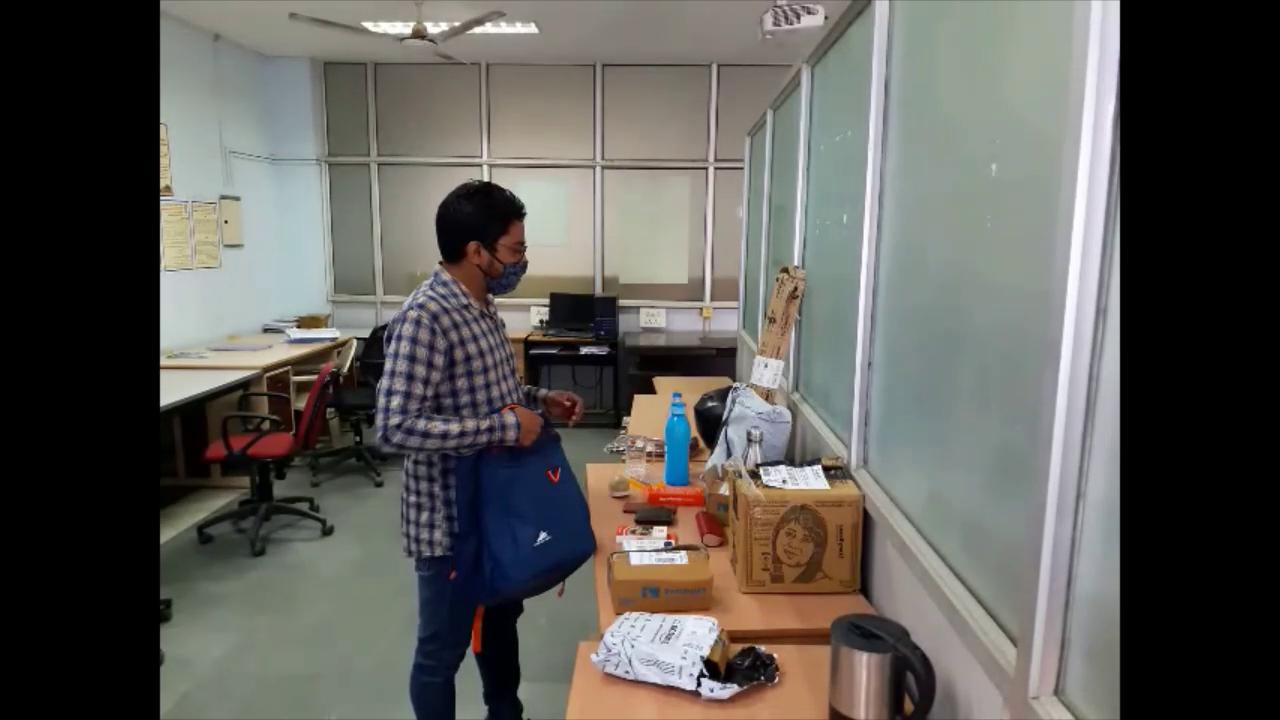Normal: (364, 175, 600, 720)
